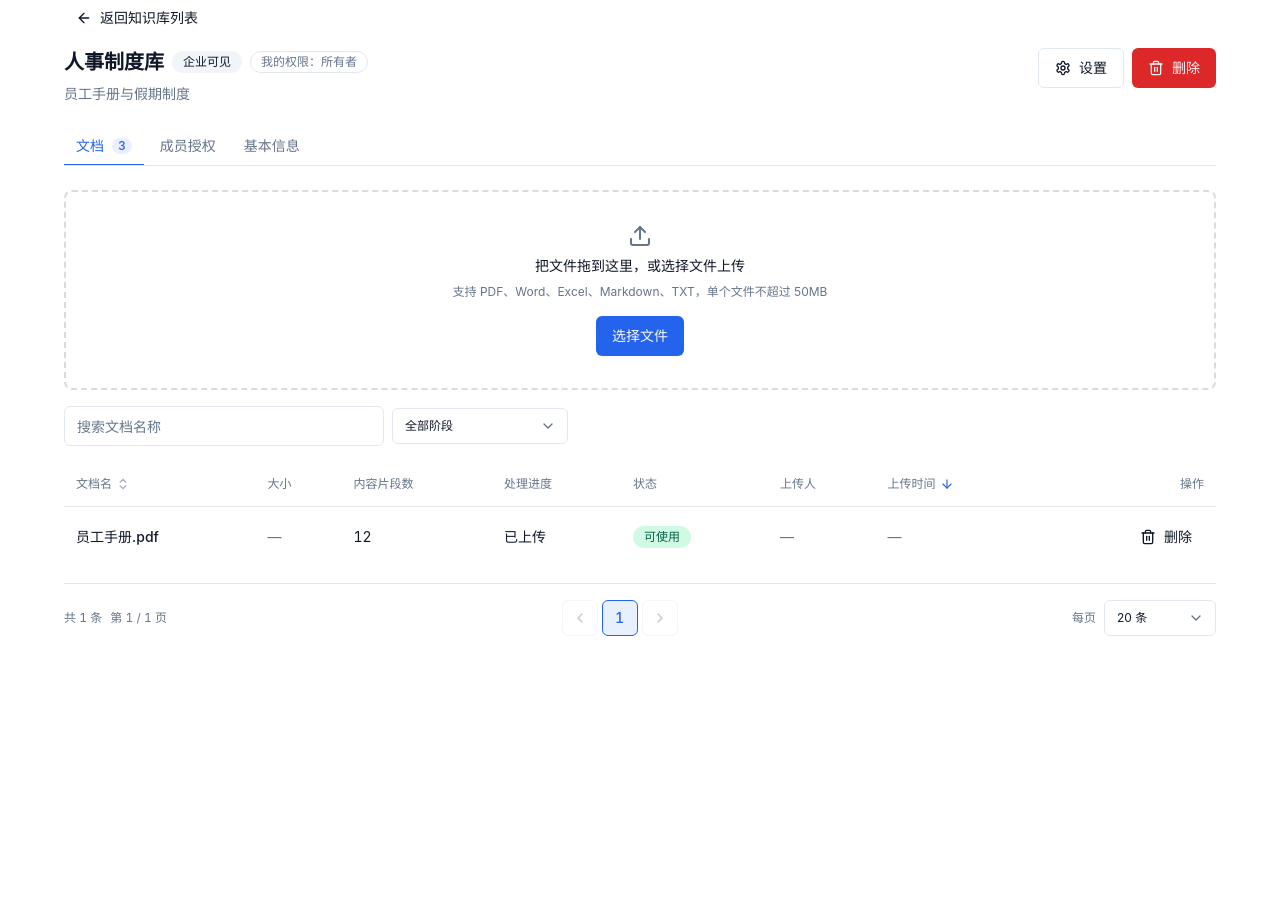
Test: 知识库详情页 › 删除知识库二次确认并说明文档处置
Later steps or results of the test are not shown.
What coordinates should you click on to do the following:
click the button "删除" in the row of "我的权限：所有者"
I would click on:
 (1174, 68)
Its box is top-left (1132, 48), bottom-right (1216, 88).
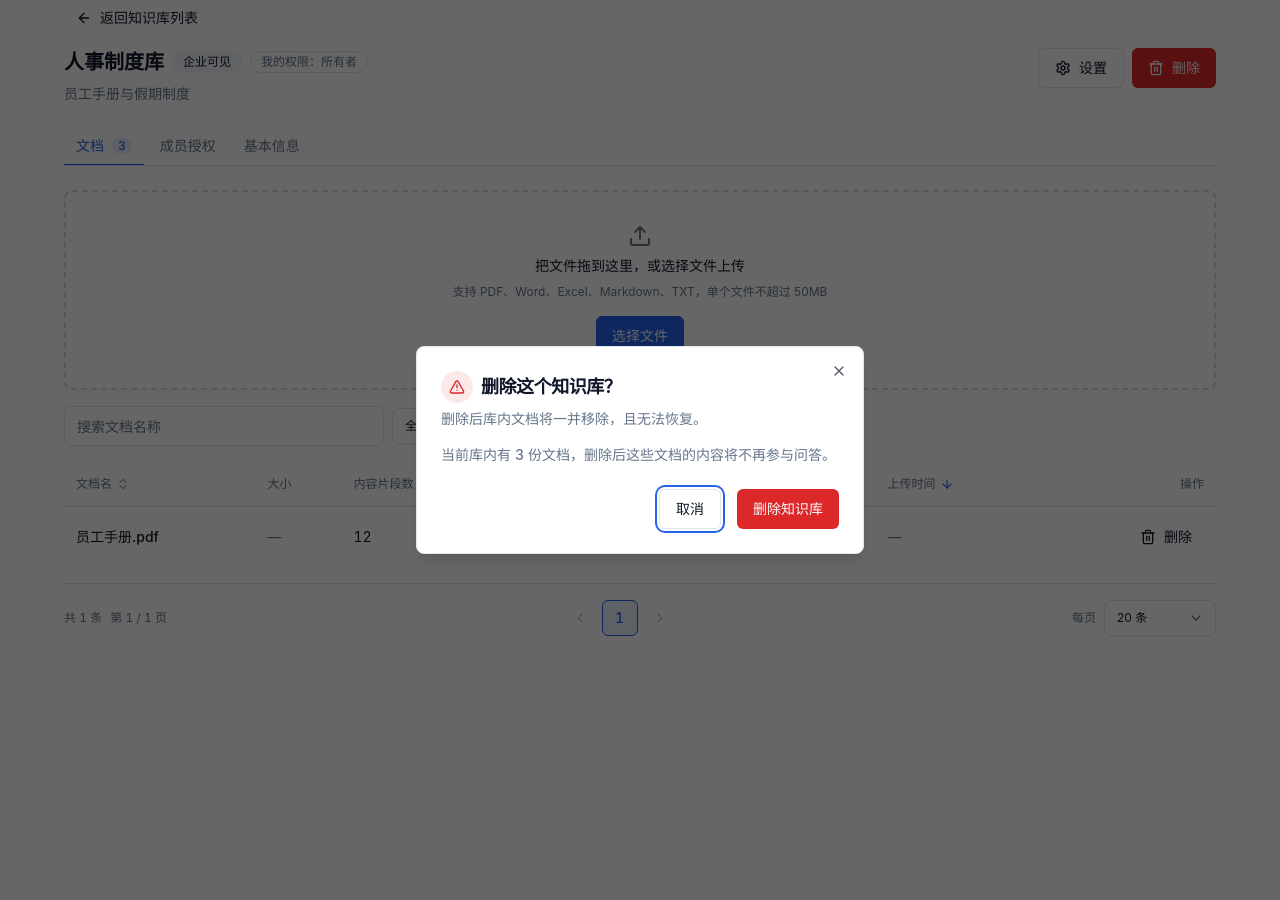
Check: the text "3" is shown, box top-left (112, 138), bottom-right (132, 154)
Check: the text "删除这个知识库？" is shown, box top-left (481, 378), bottom-right (621, 396)
Check: the text "删除后库内文档将一并移除，且无法恢复" is shown, box top-left (441, 410), bottom-right (707, 427)
